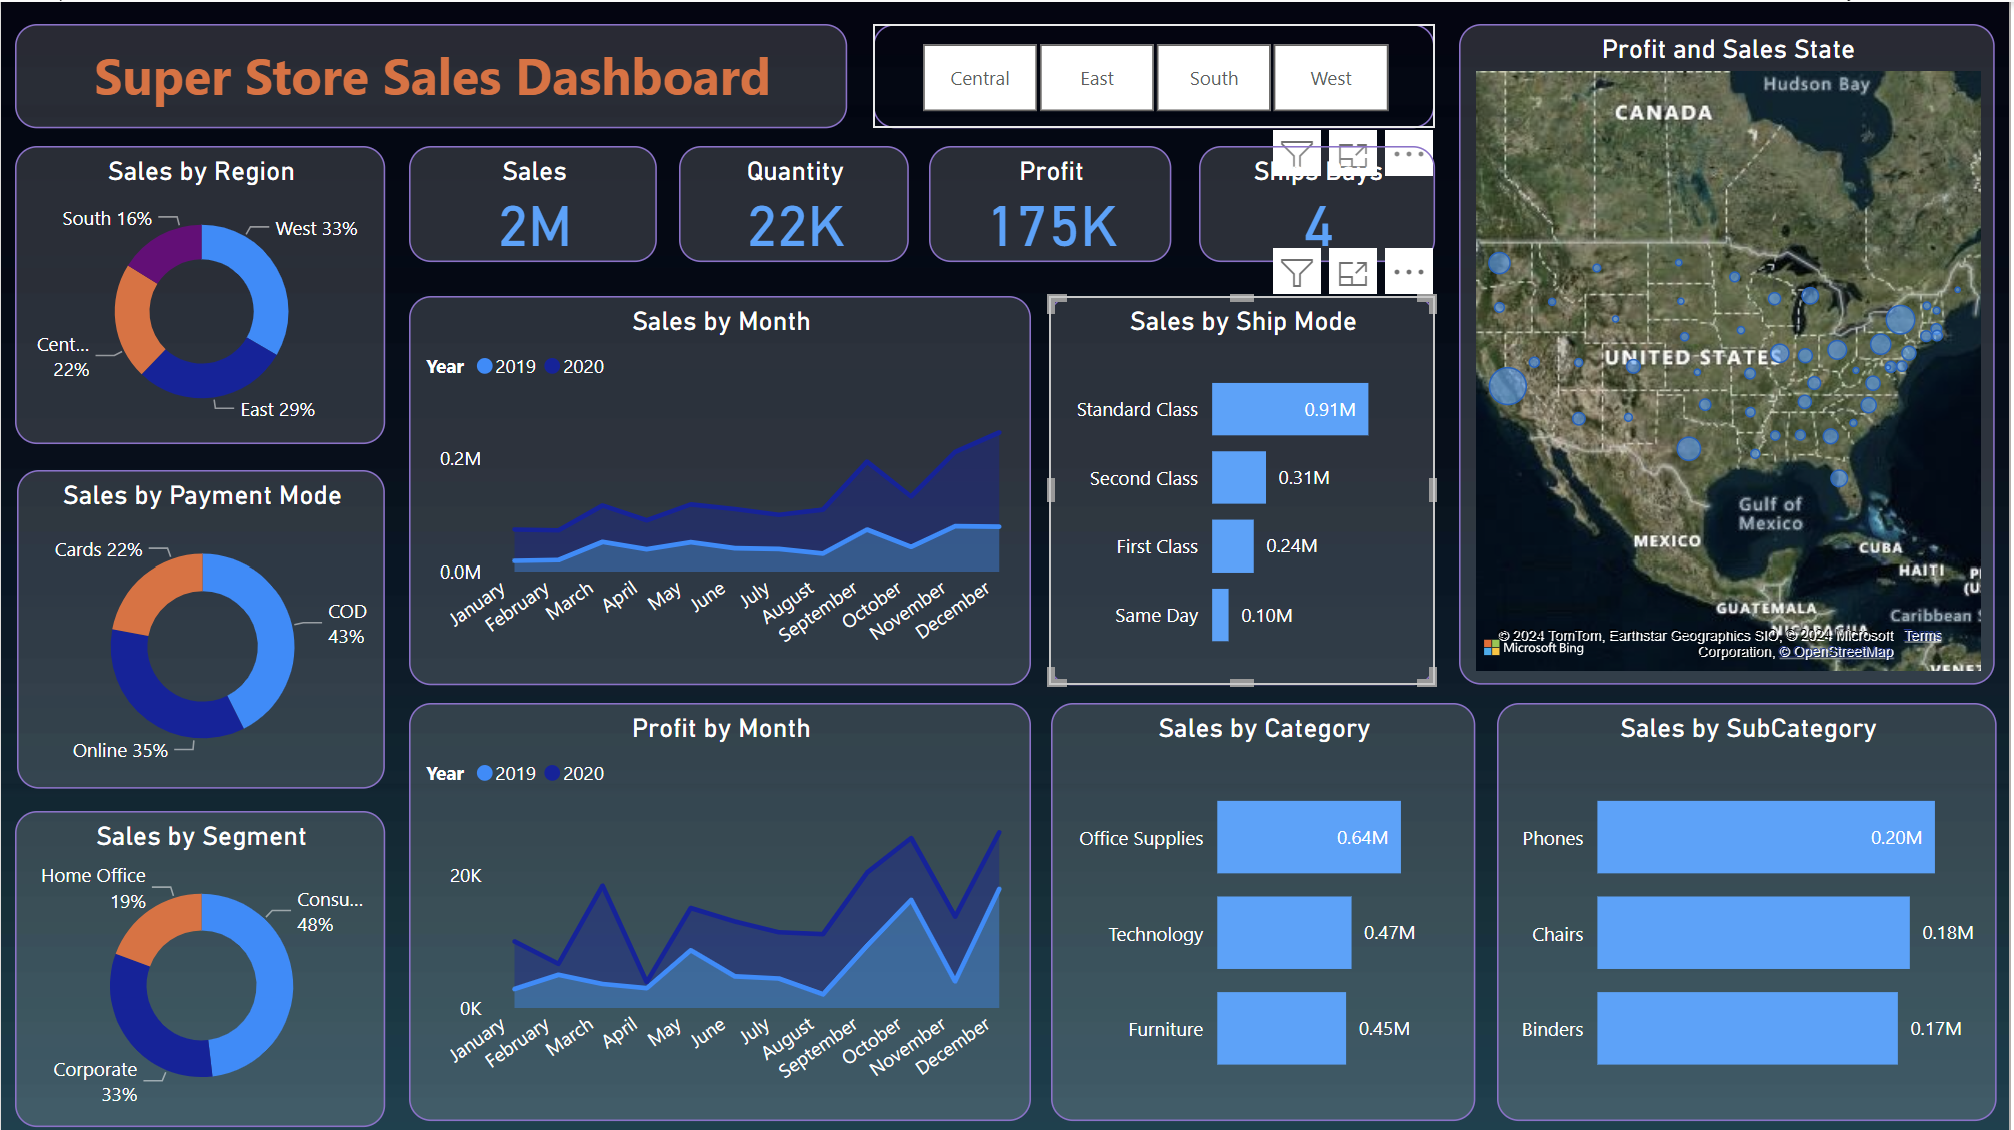

What the dashboard file says about the page in this screenshot:
{"tool":"powerbi","page":{"name":"Page 1","canvas":[1280,720],"ordinal":0},"visuals":[{"type":"clusteredBarChart","title":"Sales by Category","fields":{"Category":["SuperStore_Sales_Dataset.Category"],"Y":["Sum(SuperStore_Sales_Dataset.Sales)"]},"box":[669.3,446.2,270.3,266.5],"z":0},{"type":"clusteredBarChart","title":"Sales by SubCategory","fields":{"Y":["Sum(SuperStore_Sales_Dataset.Sales)"],"Category":["SuperStore_Sales_Dataset.Sub-Category"]},"box":[953.6,446.2,318.7,266.5],"z":1000},{"type":"stackedAreaChart","title":"Profit by Month","fields":{"Category":["SuperStore_Sales_Dataset.Order Date.Variation.Date Hierarchy.Month","SuperStore_Sales_Dataset.Order Date.Variation.Date Hierarchy.Day"],"Series":["SuperStore_Sales_Dataset.Order Date.Variation.Date Hierarchy.Year"],"Y":["Sum(SuperStore_Sales_Dataset.Profit)"]},"box":[260.1,446.2,396.5,266.5],"z":2000},{"type":"stackedAreaChart","title":"Sales by Month","fields":{"Y":["Sum(SuperStore_Sales_Dataset.Sales)"],"Category":["SuperStore_Sales_Dataset.Order Date.Variation.Date Hierarchy.Month","SuperStore_Sales_Dataset.Order Date.Variation.Date Hierarchy.Day"],"Series":["SuperStore_Sales_Dataset.Order Date.Variation.Date Hierarchy.Year"]},"box":[260.1,187.4,396.5,247.3],"z":3000},{"type":"map","title":"Profit and Sales State","fields":{"Category":["SuperStore_Sales_Dataset.State"],"Size":["Sum(SuperStore_Sales_Dataset.Sales)"]},"box":[929.4,14,341.7,420.7],"z":4000},{"type":"clusteredBarChart","title":"Sales by Ship Mode","fields":{"Category":["SuperStore_Sales_Dataset.Ship Mode"],"Y":["Sum(SuperStore_Sales_Dataset.Sales)"]},"box":[668,187.4,246.1,247.3],"z":5000},{"type":"donutChart","title":"Sales by Segment","fields":{"Category":["SuperStore_Sales_Dataset.Segment"],"Y":["Sum(SuperStore_Sales_Dataset.Sales)"]},"box":[8.9,515.1,235.9,201.4],"z":6000},{"type":"donutChart","title":"Sales by Payment Mode","fields":{"Category":["SuperStore_Sales_Dataset.Payment Mode"],"Y":["Sum(SuperStore_Sales_Dataset.Sales)"]},"box":[10.2,298.3,234.6,202.7],"z":7000},{"type":"slicer","fields":{"Values":["SuperStore_Sales_Dataset.Region"]},"box":[555.9,14,358.2,66.3],"z":8000},{"type":"textbox","box":[8.9,14,530.4,66.3],"z":9000},{"type":"card","title":"Sales","fields":{"Values":["Sum(SuperStore_Sales_Dataset.Sales)"]},"box":[260.1,91.8,158.1,73.9],"z":10000},{"type":"card","title":"Quantity","fields":{"Values":["Sum(SuperStore_Sales_Dataset.Quantity)"]},"box":[432.2,91.8,146.6,73.9],"z":11000},{"type":"card","title":"Profit","fields":{"Values":["Sum(SuperStore_Sales_Dataset.Profit)"]},"box":[591.6,91.8,154.3,73.9],"z":12000},{"type":"card","title":"Ships Days","fields":{"Values":["Avg(SuperStore_Sales_Dataset.AvgDelivery)"]},"box":[763.7,91.8,150.4,73.9],"z":13000},{"type":"donutChart","title":"Sales by Region","fields":{"Category":["SuperStore_Sales_Dataset.Region","SuperStore_Sales_Dataset.Payment Mode"],"Y":["Sum(SuperStore_Sales_Dataset.Sales)"]},"box":[8.9,91.8,235.9,190],"z":14000}]}

Visuals, with their boxes in screenshot pixels (x1, y1, x2, y2), scaled from the page's 1280x720 canvas onto the 2014x1130 screenshot:
"Sales by Category" clusteredBarChart: (x1=1053, y1=700, x2=1478, y2=1119)
"Sales by SubCategory" clusteredBarChart: (x1=1500, y1=700, x2=2002, y2=1119)
"Profit by Month" stackedAreaChart: (x1=409, y1=700, x2=1033, y2=1119)
"Sales by Month" stackedAreaChart: (x1=409, y1=294, x2=1033, y2=682)
"Profit and Sales State" map: (x1=1462, y1=22, x2=2000, y2=682)
"Sales by Ship Mode" clusteredBarChart: (x1=1051, y1=294, x2=1438, y2=682)
"Sales by Segment" donutChart: (x1=14, y1=808, x2=385, y2=1125)
"Sales by Payment Mode" donutChart: (x1=16, y1=468, x2=385, y2=786)
slicer - SuperStore_Sales_Dataset.Region: (x1=875, y1=22, x2=1438, y2=126)
textbox: (x1=14, y1=22, x2=849, y2=126)
"Sales" card: (x1=409, y1=144, x2=658, y2=260)
"Quantity" card: (x1=680, y1=144, x2=911, y2=260)
"Profit" card: (x1=931, y1=144, x2=1174, y2=260)
"Ships Days" card: (x1=1202, y1=144, x2=1438, y2=260)
"Sales by Region" donutChart: (x1=14, y1=144, x2=385, y2=442)
